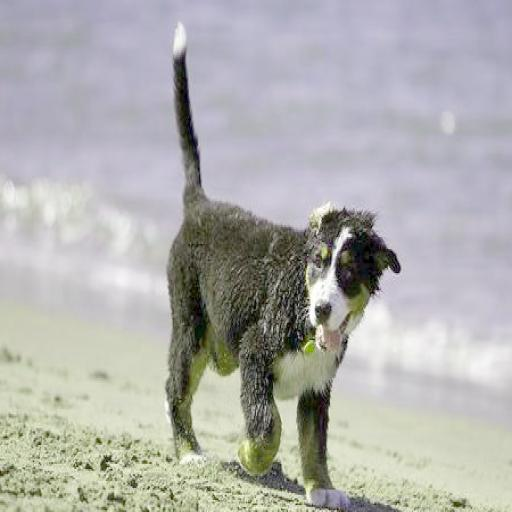dog_face: (294, 210, 384, 345)
